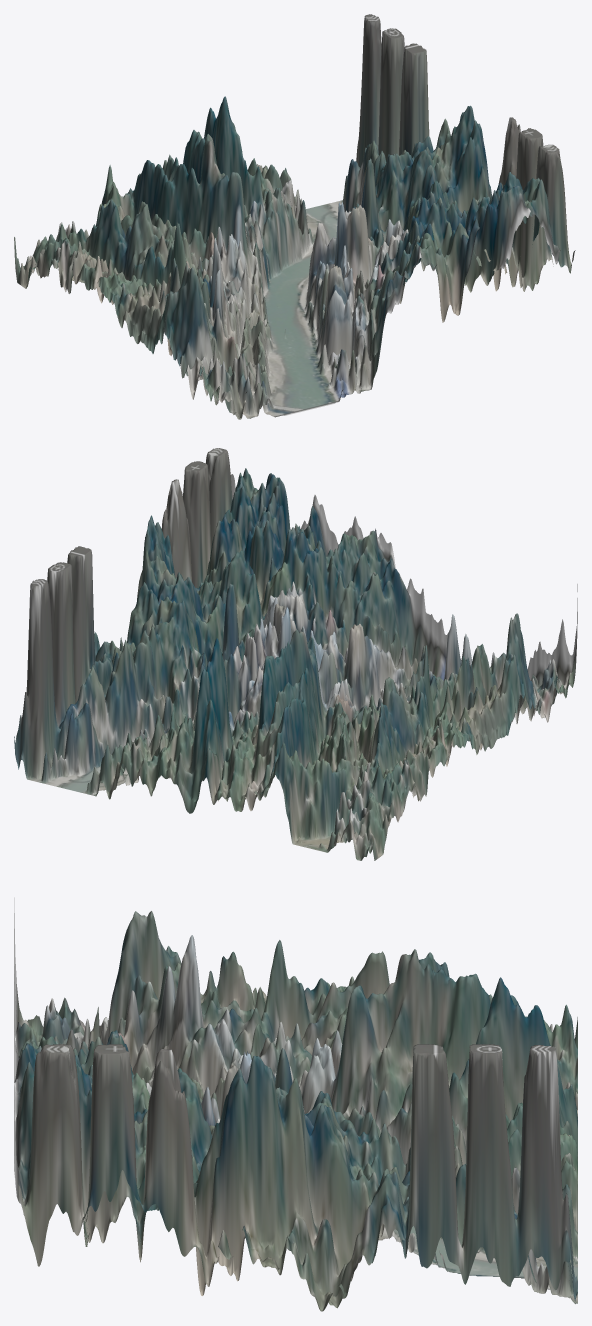
The model's file is dsm_1e30b1974c_mesh.glb.
3 views of the same model, one above another, from view 1: azimuth 30°, elevation 25°; view 2: azimuth 150°, elevation 25°; view 3: azimuth 270°, elevation 25° (orthographic). The views are drawn at different scales.
Parts seen in each view (by area): view 1: geometry_0; view 2: geometry_0; view 3: geometry_0.
Boxes of the visible parts, x1,y1,x2,y2 form: geometry_0: [14, 14, 575, 419]; geometry_0: [14, 448, 577, 860]; geometry_0: [14, 897, 577, 1311].
Bounding box in the file's own units: 2 × 1 × 2.
